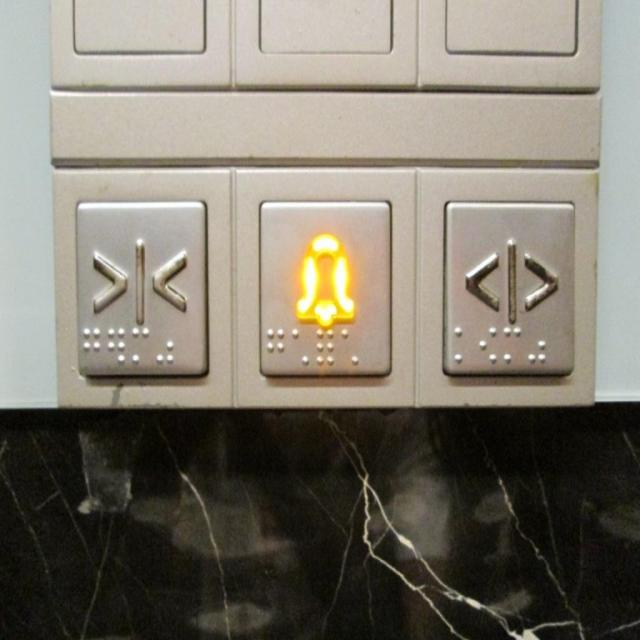alarm: (233, 164, 416, 412)
close: (53, 166, 233, 409)
open: (418, 166, 598, 409)
